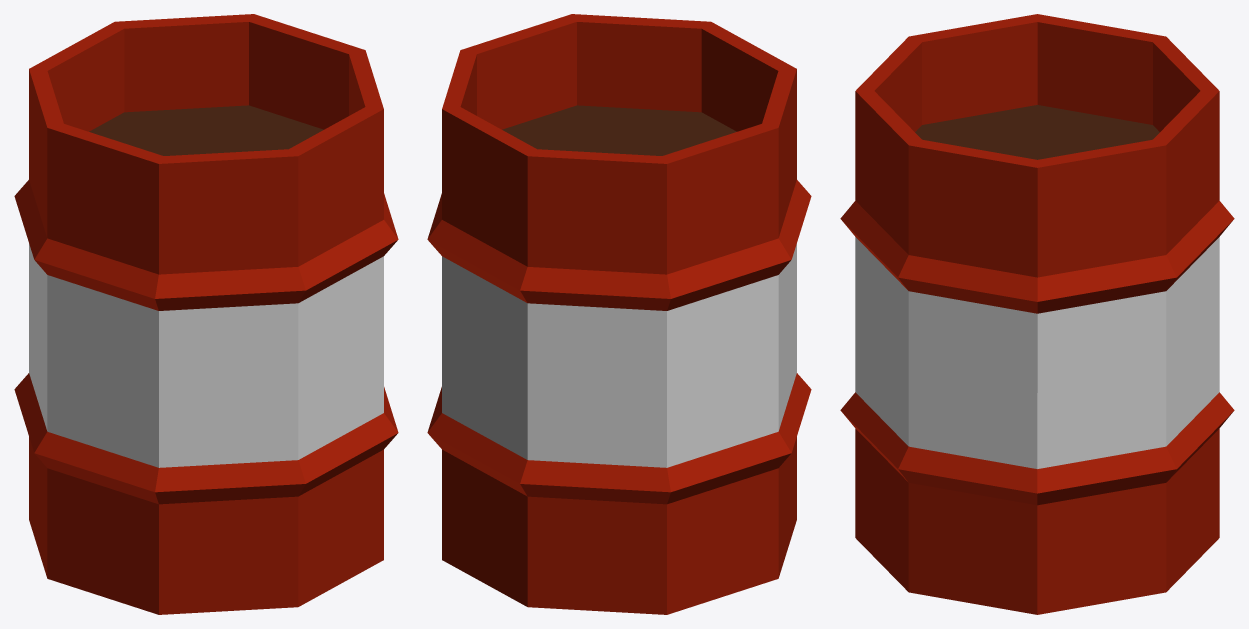
Rendered from Barrel.fbx.
The picture shows the model from 3 angles, left to right: view 1: azimuth 30°, elevation 25°; view 2: azimuth 150°, elevation 25°; view 3: azimuth 270°, elevation 25°; orthographic projection.
Visible parts, largest first — view 1: Cylinder; view 2: Cylinder; view 3: Cylinder.
Part boxes in pixels (x1,y1,x2,y2): Cylinder: (14, 14, 398, 614); Cylinder: (427, 14, 811, 614); Cylinder: (840, 14, 1234, 614).
Size of the model in its own units: 143 by 179 by 143.
